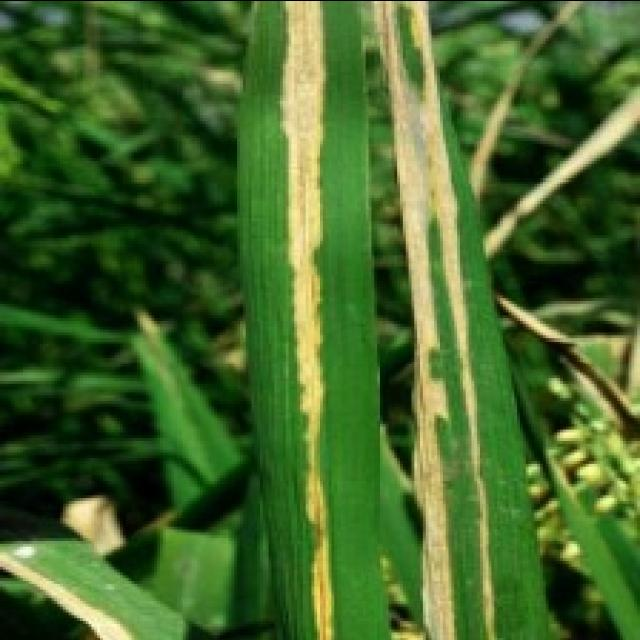Unhealthy: (373, 0, 498, 640), (280, 0, 336, 640), (484, 83, 640, 261), (467, 0, 583, 208)
